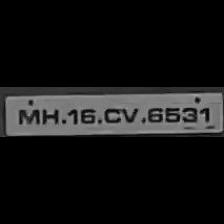1: (62, 105, 79, 124), (197, 104, 213, 124)
3: (180, 104, 198, 124)
5: (162, 102, 180, 124)
6: (76, 106, 98, 124), (144, 105, 164, 123)
C: (101, 105, 127, 123)
H: (39, 104, 61, 126)
M: (16, 105, 38, 124)
V: (120, 104, 140, 124)
